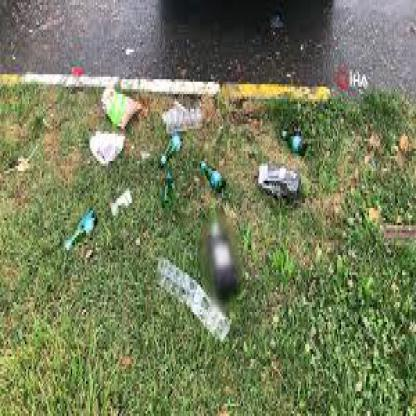Garbage: (148, 230, 250, 364), (203, 210, 243, 294), (85, 91, 131, 162), (161, 99, 219, 154), (258, 154, 306, 206), (66, 211, 114, 255), (97, 74, 135, 126), (92, 116, 127, 166), (190, 158, 230, 186), (108, 183, 144, 213), (278, 126, 318, 146)
